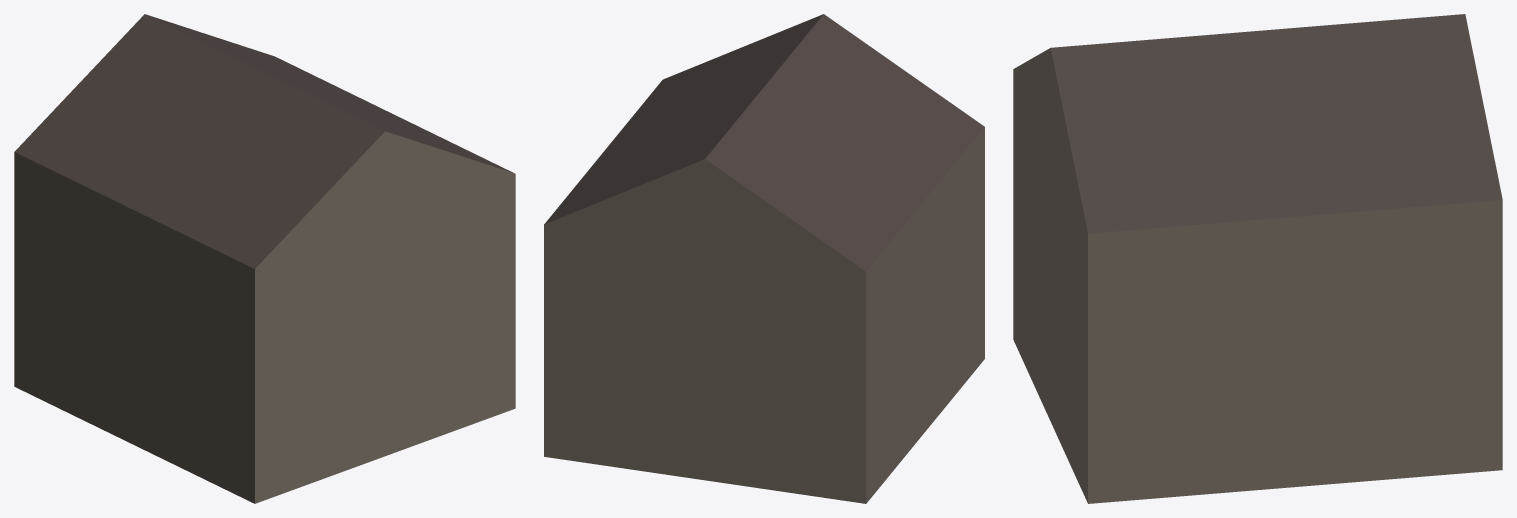
3 views of the same model, side by side, from view 1: azimuth 30°, elevation 25°; view 2: azimuth 150°, elevation 25°; view 3: azimuth 270°, elevation 25° (orthographic). The views are drawn at different scales.
Parts seen in each view (by area): view 1: HP-w1202498640; view 2: HP-w1202498640; view 3: HP-w1202498640.
Boxes of the visible parts, left/top/right/bottom form: HP-w1202498640: left=14, top=14, right=515, bottom=503; HP-w1202498640: left=544, top=14, right=984, bottom=503; HP-w1202498640: left=1013, top=14, right=1502, bottom=503.
Bounding box in the file's own units: 9.45 × 8.31 × 9.86.
